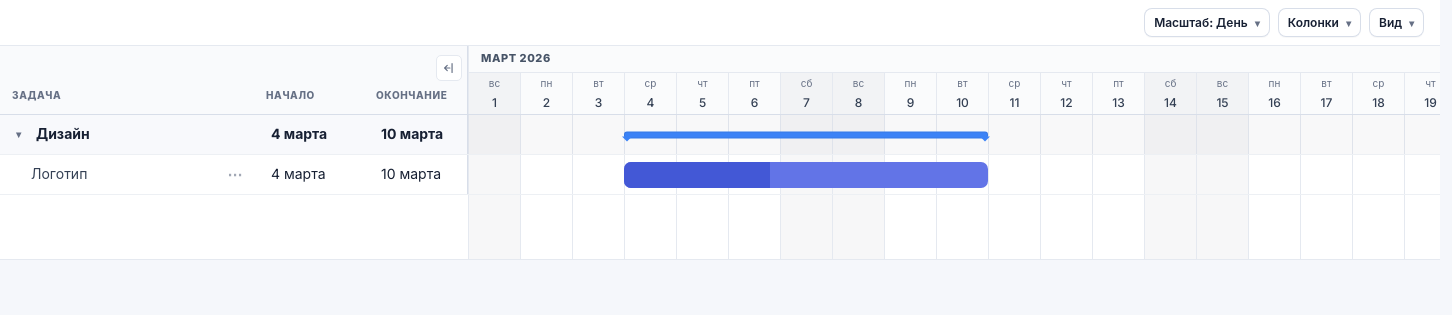
Test case: карточка наведения на полоску › показывается по фокусу с клавиатуры сразу и прячется, когда фокус ушёл
Focus the button named "Логотип": (697, 174) x1=624 y1=162 x2=988 y2=188
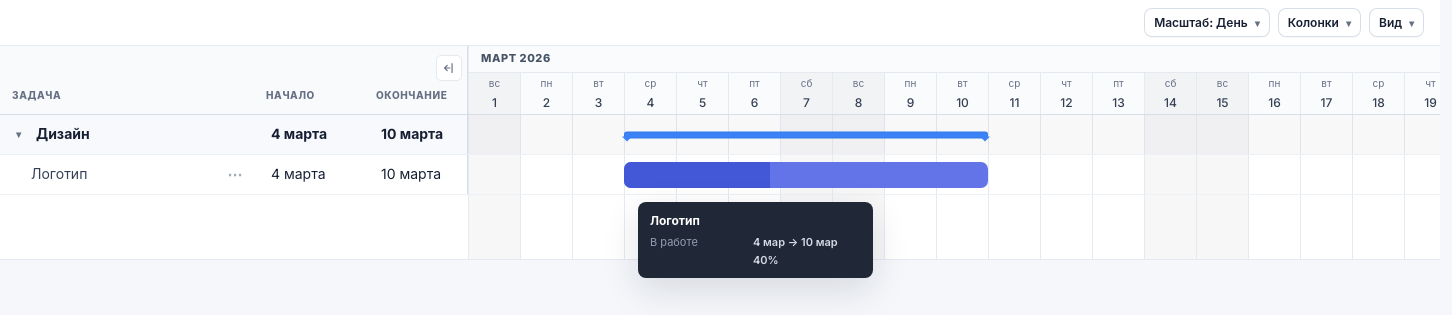
Check: the element with test id "bar-tip" is shown, box x1=638 y1=202 x2=873 y2=278
Leave the button named "Логотип", box x1=624 y1=162 x2=988 y2=188
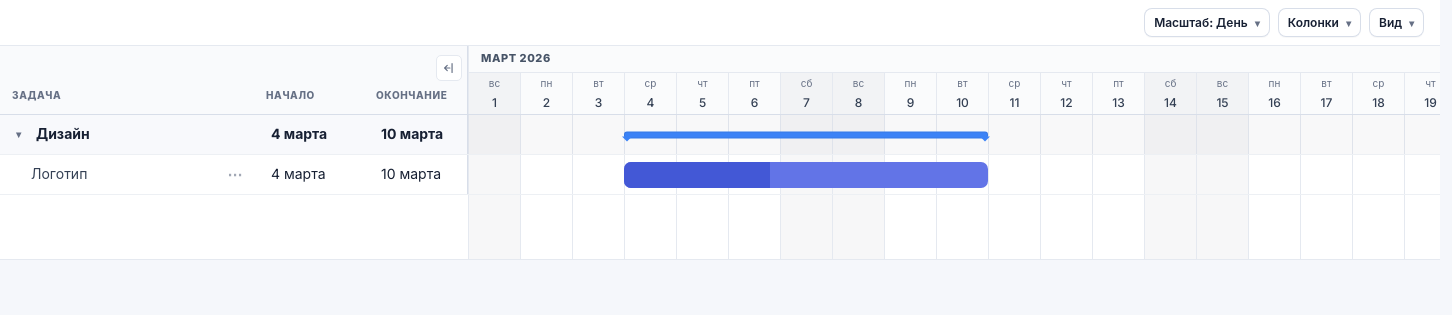
Check: the element with test id "bar-tip" is gone
